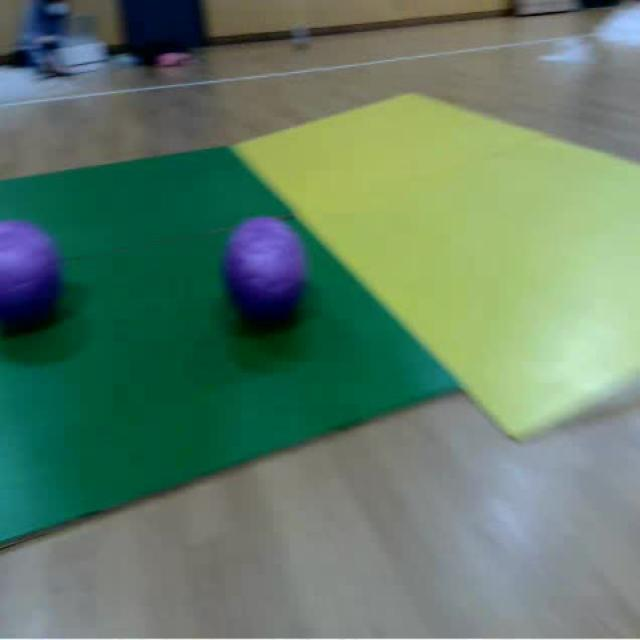purple_ball: (223, 219, 310, 335), (0, 224, 63, 336)
